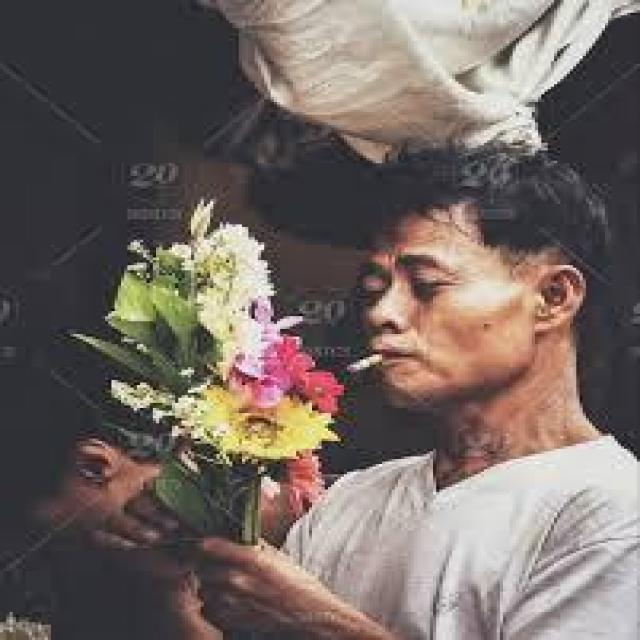organic waste: (155, 215, 304, 366), (169, 385, 331, 469)
